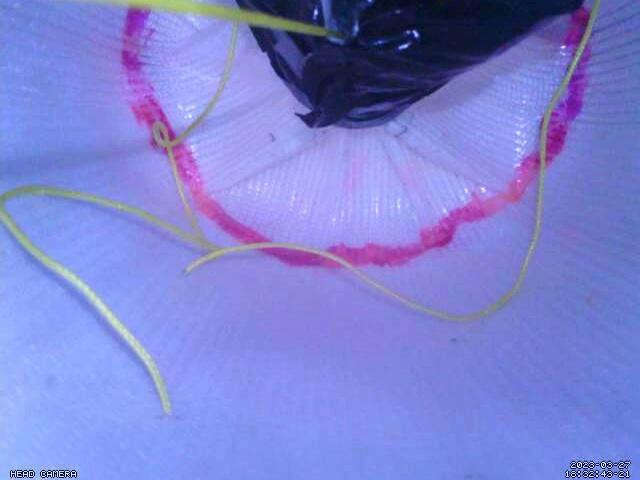head: (121, 6, 595, 269)
